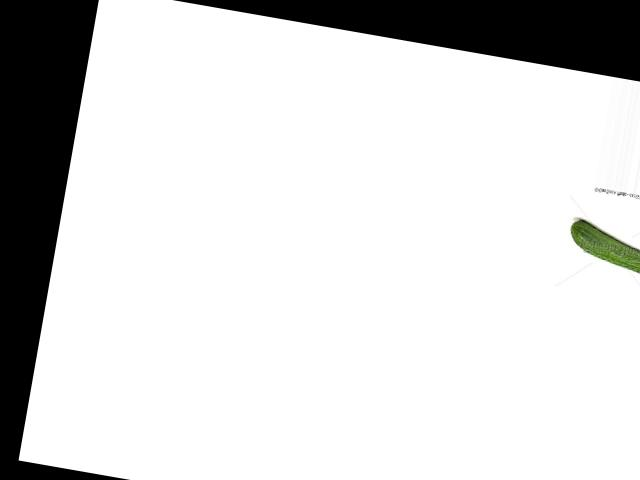cucumber: (566, 218, 640, 276)
